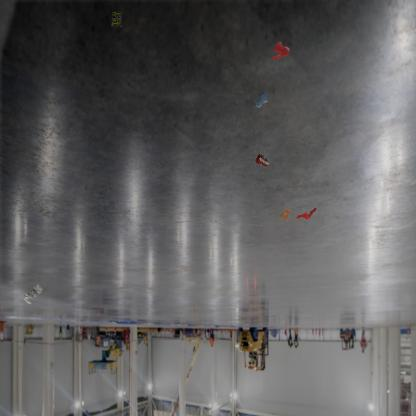dirty: (22, 282, 44, 306), (294, 206, 318, 222), (253, 152, 272, 170), (277, 206, 294, 223), (110, 11, 123, 27)
liquid: (271, 40, 291, 61), (254, 91, 268, 109)
